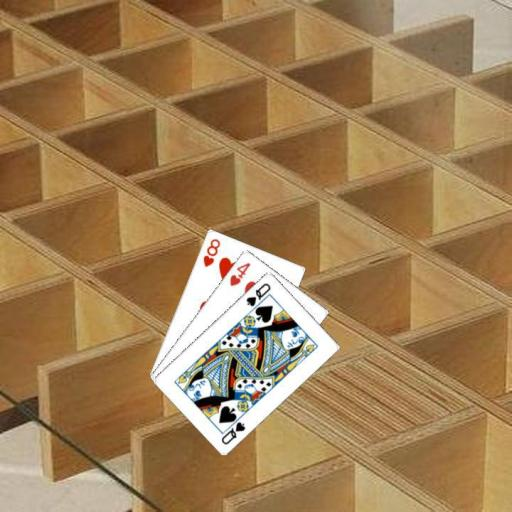4H: (226, 259, 252, 287)
8H: (200, 235, 222, 268)
QS: (244, 279, 273, 308), (218, 418, 247, 446)
